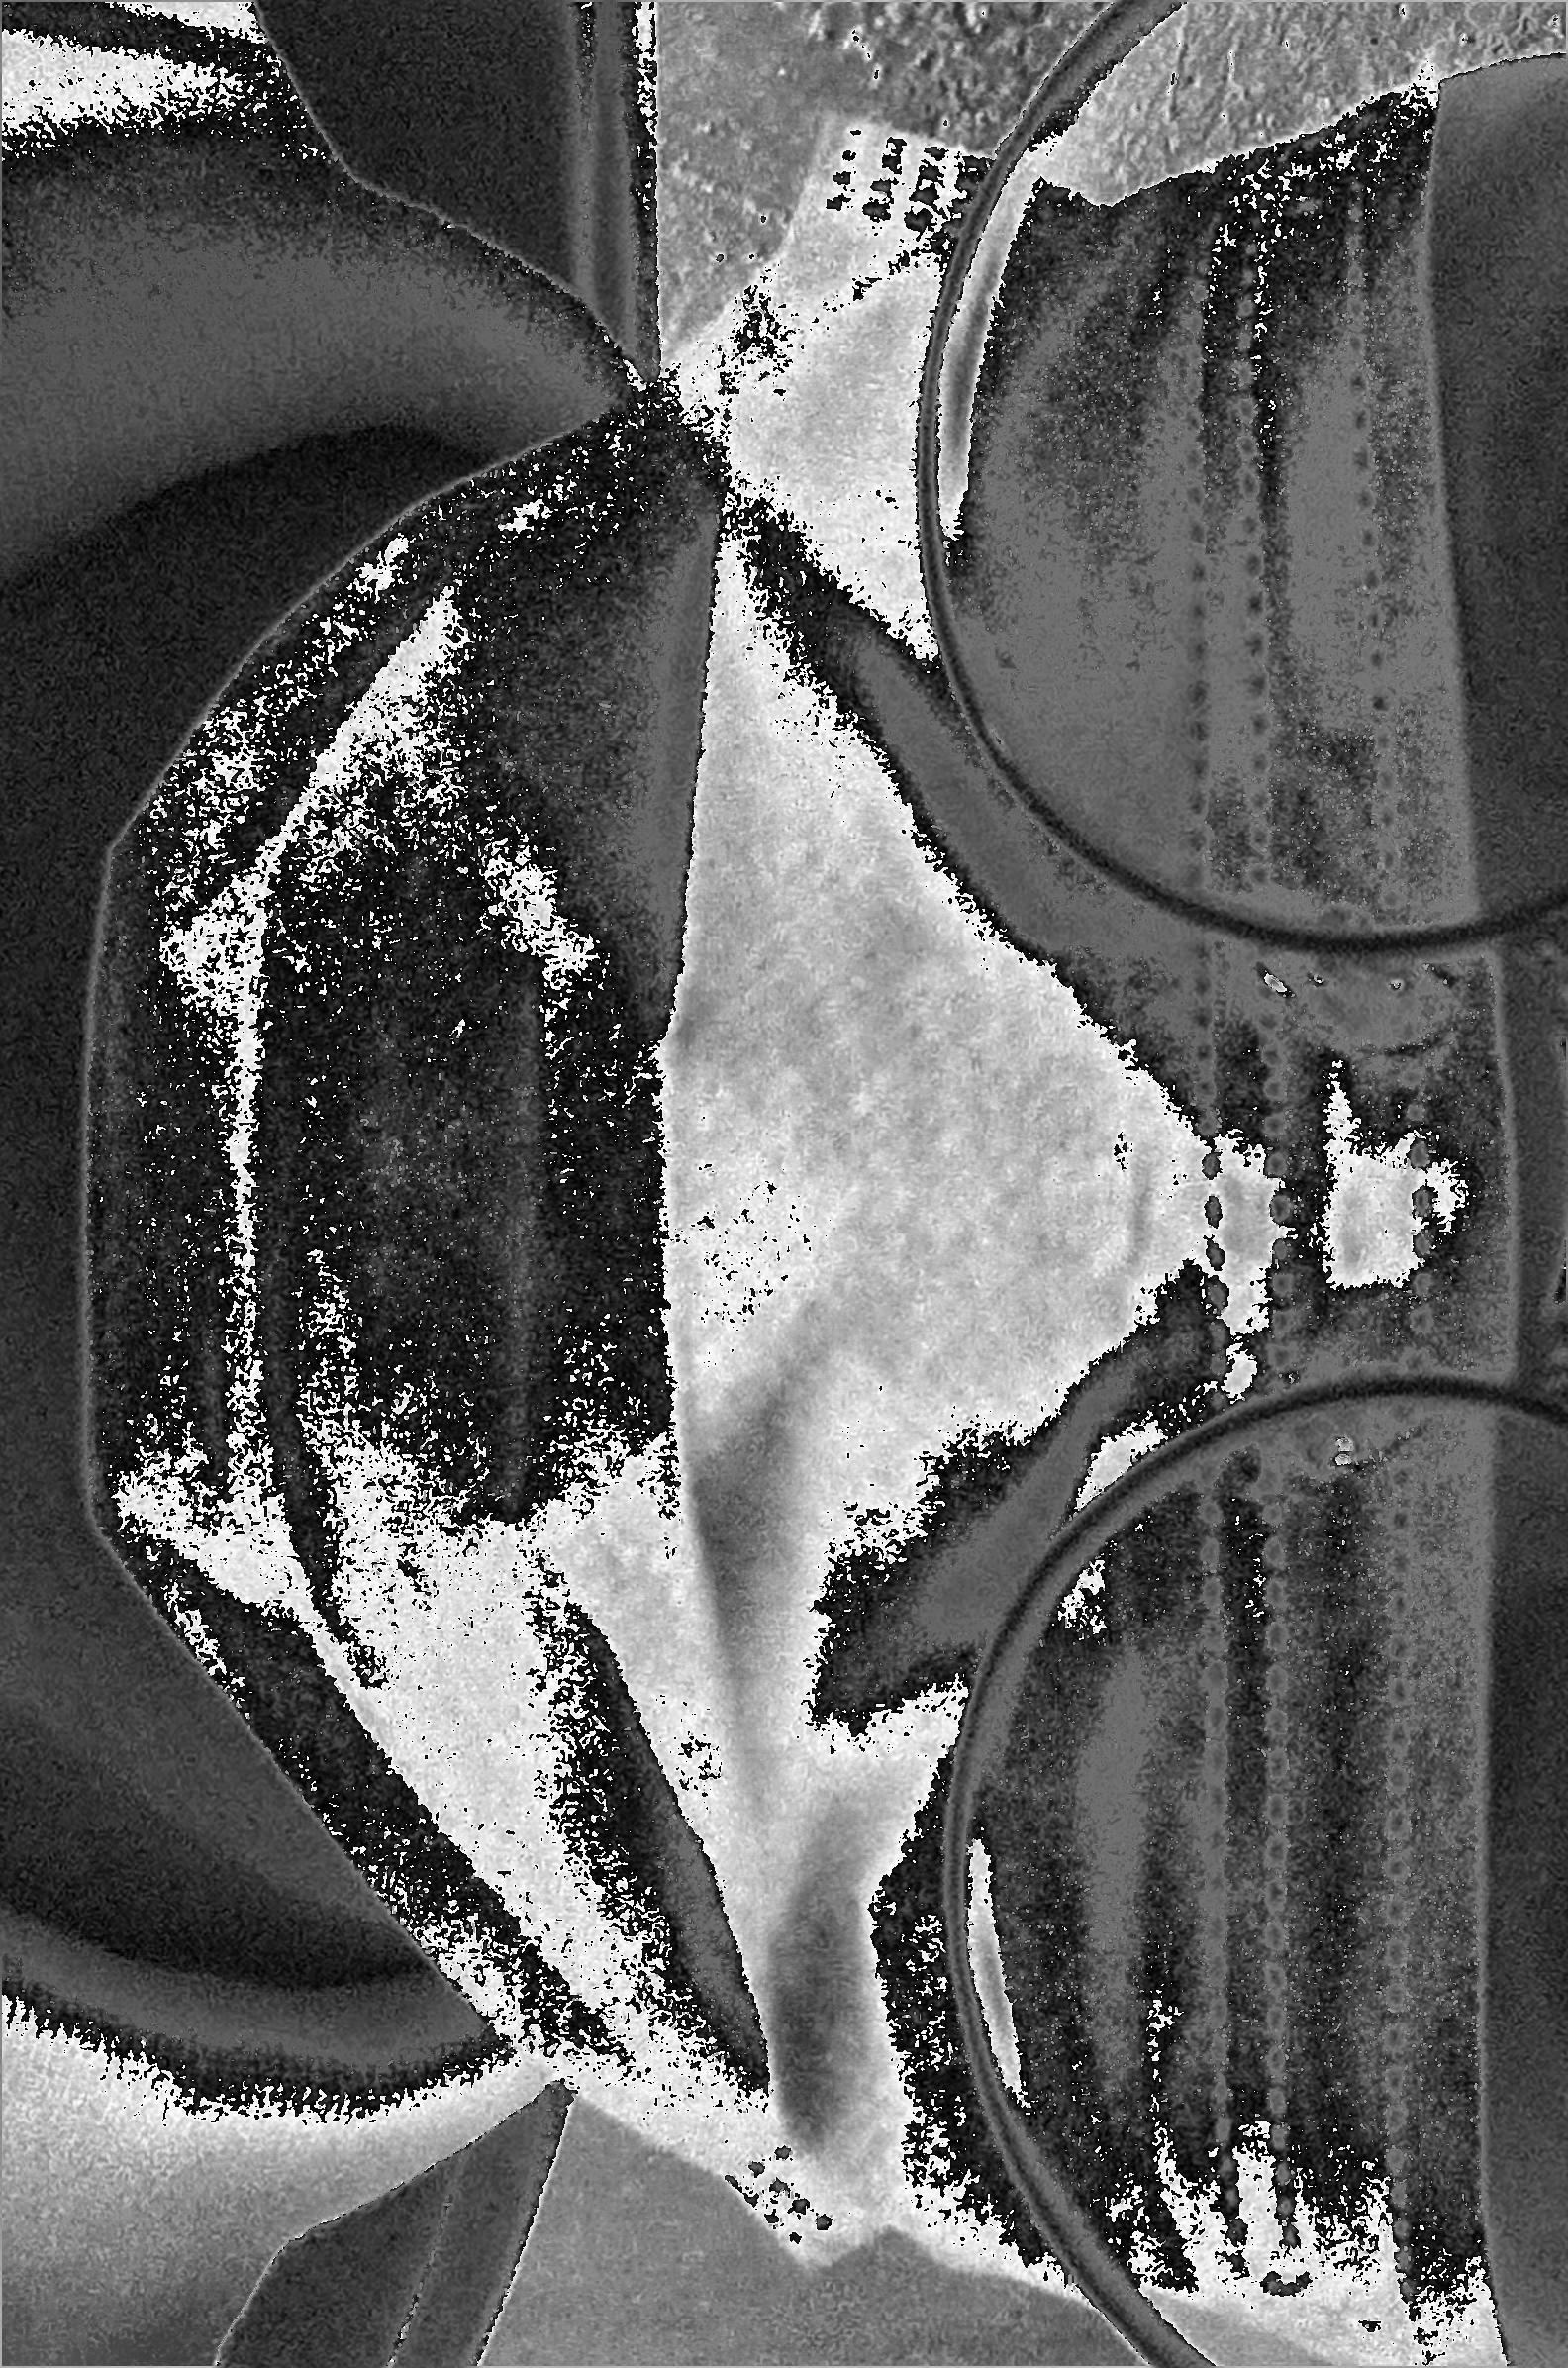Low GSM: (786, 938, 1106, 1386), (313, 1094, 635, 1475), (508, 583, 744, 991), (572, 1703, 796, 2098)
